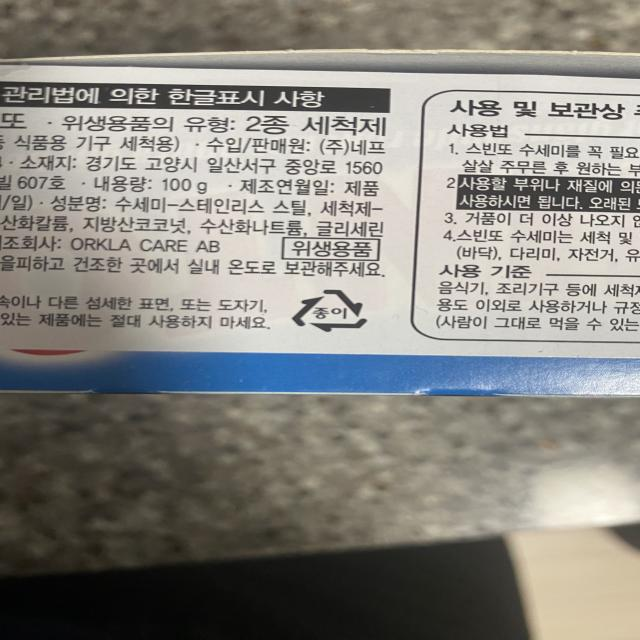Paper: (286, 284, 376, 334)
